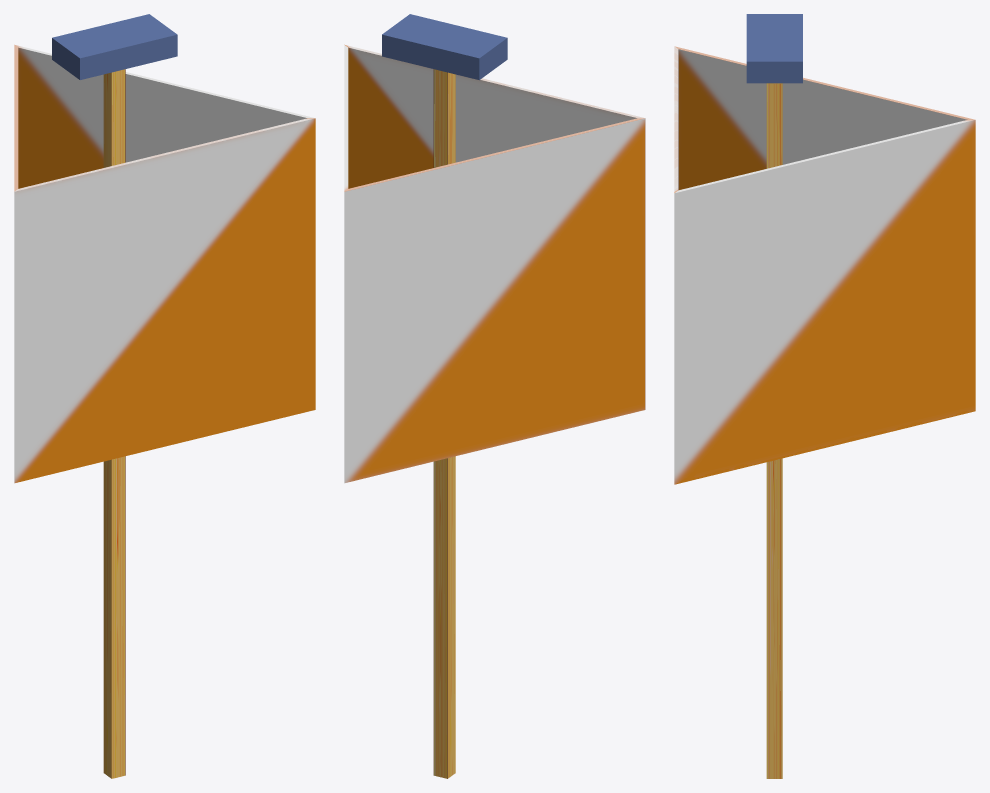
Rendered from Control.fbx.
The picture shows the model from 3 angles, left to right: view 1: azimuth 30°, elevation 25°; view 2: azimuth 150°, elevation 25°; view 3: azimuth 270°, elevation 25°; orthographic projection.
Parts seen in each view (by area): view 1: Flag, Stick, Control; view 2: Flag, Stick, Control; view 3: Flag, Stick, Control.
Part boxes in pixels (bbox=[...]): Flag: bbox=[14, 44, 315, 483]; Stick: bbox=[103, 69, 125, 778]; Control: bbox=[52, 14, 177, 79]; Flag: bbox=[344, 44, 645, 483]; Stick: bbox=[433, 69, 455, 778]; Control: bbox=[382, 14, 507, 80]; Flag: bbox=[674, 46, 975, 484]; Stick: bbox=[766, 83, 782, 778]; Control: bbox=[746, 14, 802, 83].
Bounding box in the file's own units: 43.3 × 101 × 37.5.
